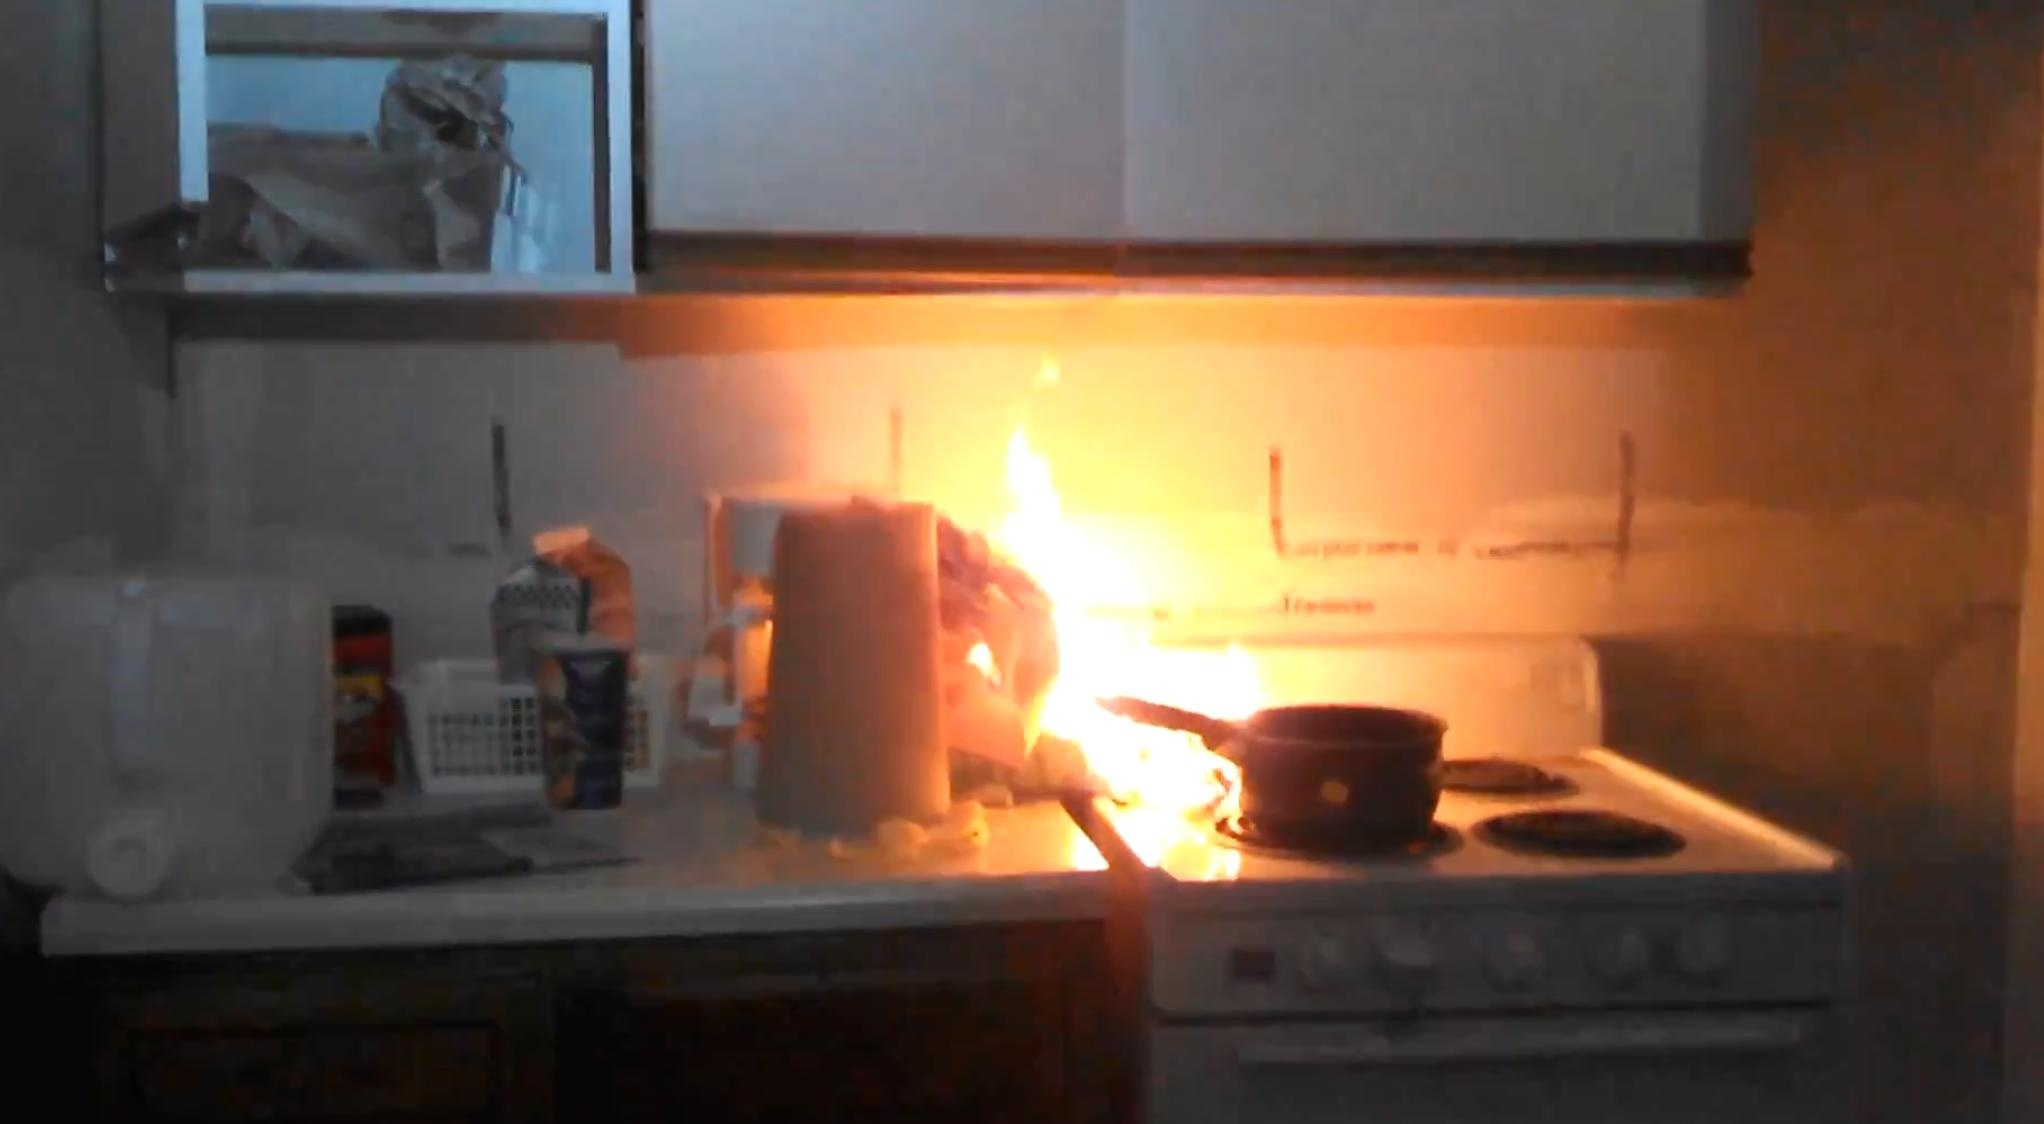fire: (962, 403, 1252, 865)
